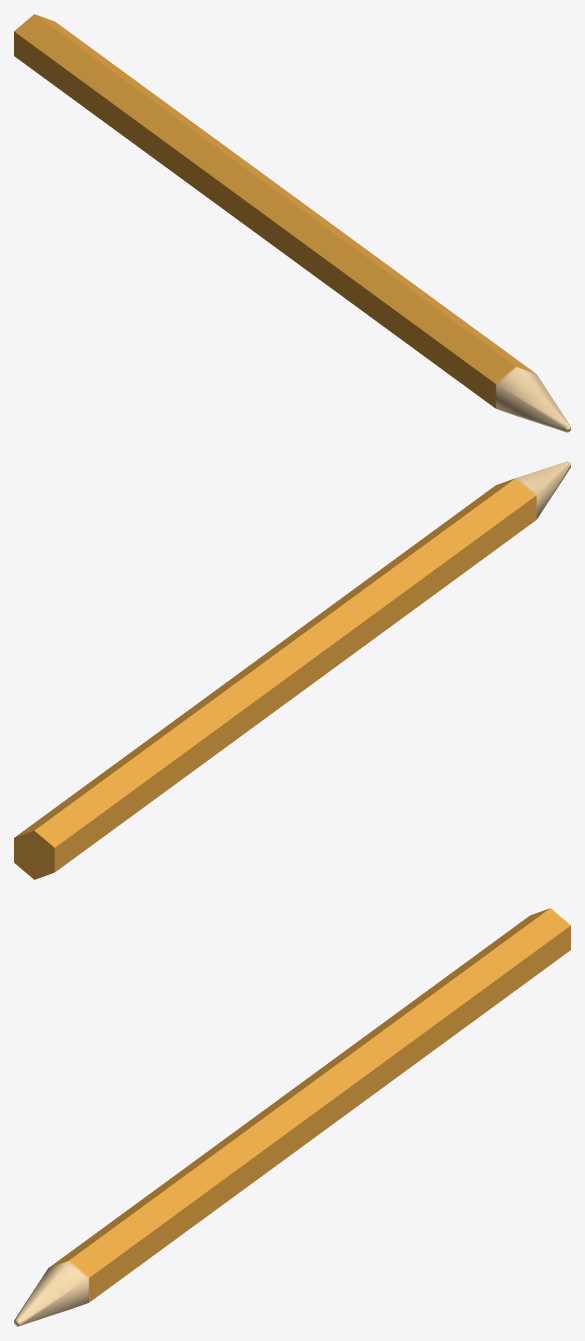
File: pencil.fbx
3 views of the same model, one above another, from view 1: azimuth 30°, elevation 25°; view 2: azimuth 150°, elevation 25°; view 3: azimuth 330°, elevation 25° (orthographic).
Visible parts, largest first — view 1: pencil; view 2: pencil; view 3: pencil.
Part boxes in pixels (x1,y1,x2,y2): pencil: (14,14,570,432); pencil: (14,461,570,879); pencil: (14,908,570,1326).
Size of the model in its own units: 0.0187 by 0.0216 by 0.4231.
